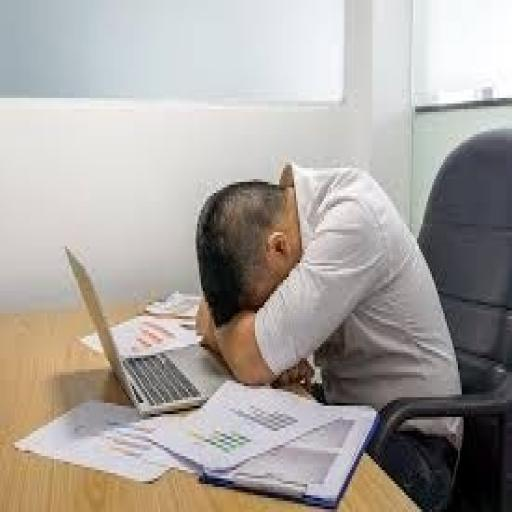sleeping: (192, 157, 465, 509)
